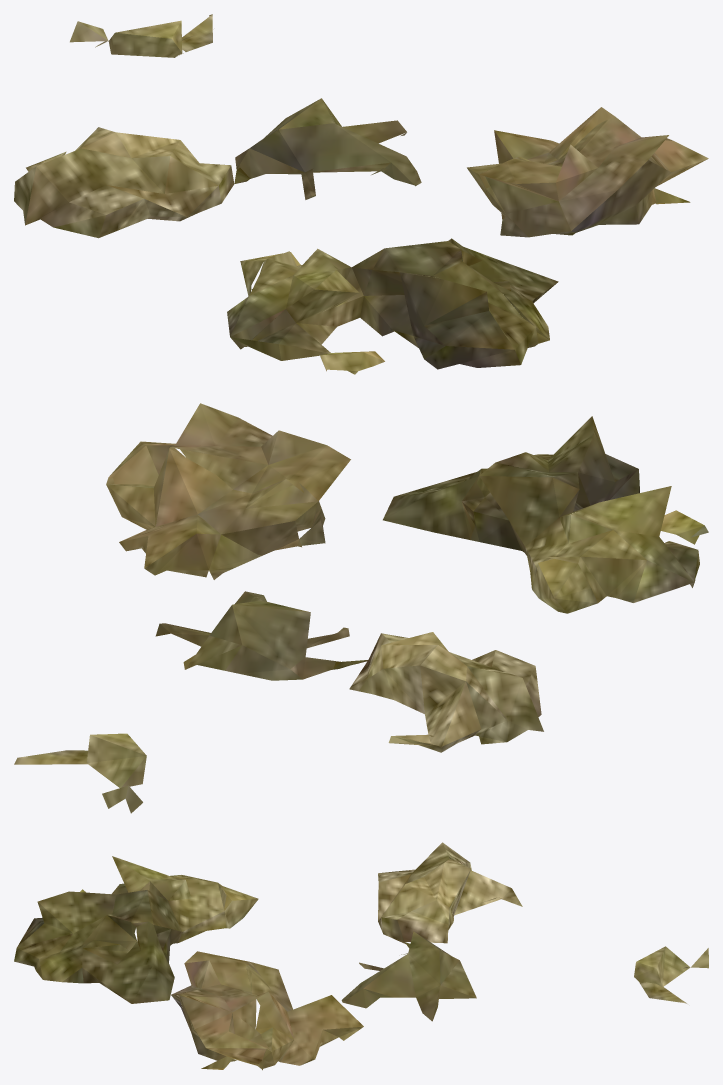
The picture shows the model from 3 angles, top to bottom: view 1: azimuth 30°, elevation 25°; view 2: azimuth 150°, elevation 25°; view 3: azimuth 270°, elevation 25°; orthographic projection. The views are drawn at different scales.
Parts seen in each view (by area): view 1: Mesh_0; view 2: Mesh_0; view 3: Mesh_0.
Part boxes in pixels (x1,y1,x2,y2): Mesh_0: (14,14,708,374); Mesh_0: (14,403,708,813); Mesh_0: (14,842,708,1070).
Size of the model in its own units: 19.78 by 3.48 by 28.33.
Materials: 1 (1 with a texture image).
